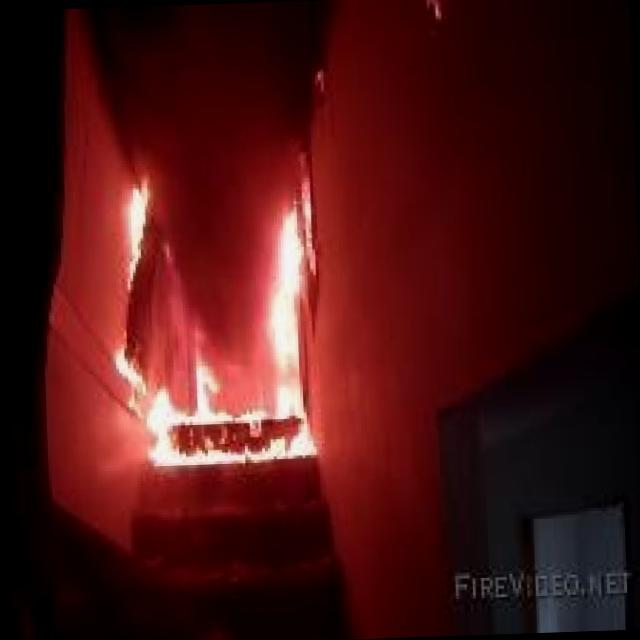fire: (113, 155, 364, 482)
